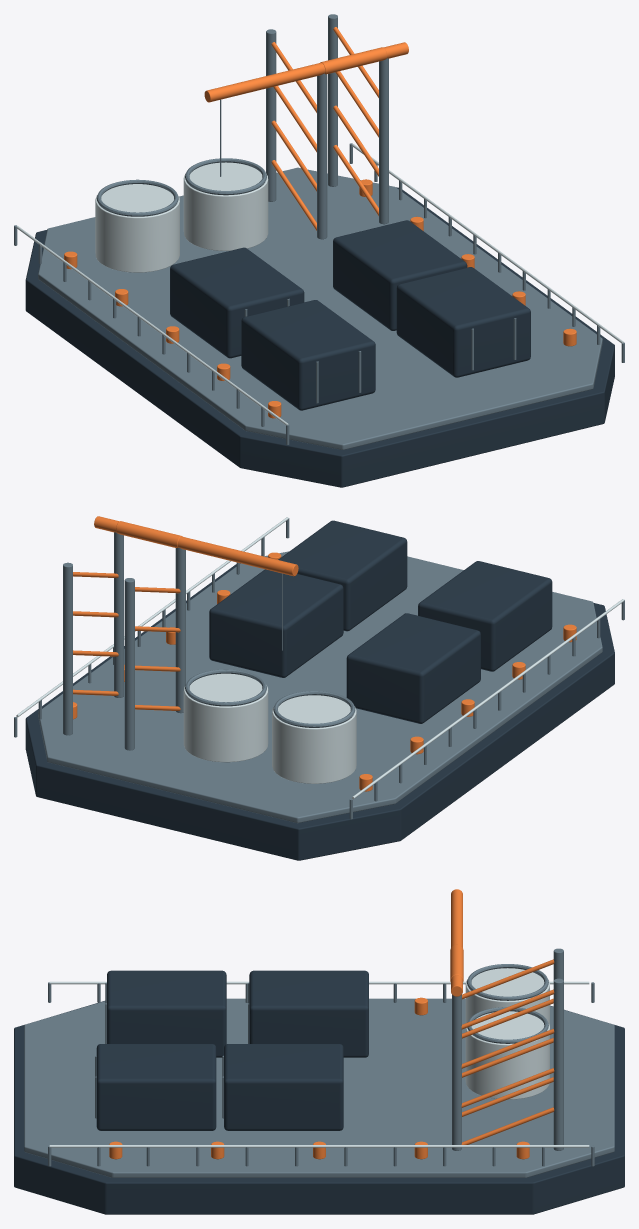
Rendered from HarborPort.fbx.
The picture shows the model from 3 angles, top to bottom: view 1: azimuth 30°, elevation 25°; view 2: azimuth 150°, elevation 25°; view 3: azimuth 270°, elevation 25°; orthographic projection.
Parts seen in each view (by area): view 1: Inset concrete deck.002, Chamfered breakwater.002, Cargo frame.008, Cargo frame.010, Cargo frame.009, Cargo frame.011, Fuel reservoir.005, Fuel reservoir.004, Crane outreach.002, Crane lattice leg.008, Crane lattice leg.010, Crane lattice leg.009 (+6 smaller); view 2: Inset concrete deck.002, Chamfered breakwater.002, Cargo frame.009, Cargo frame.011, Cargo frame.008, Cargo frame.010, Fuel reservoir.005, Fuel reservoir.004, Crane lattice leg.009, Crane outreach.002, Crane lattice leg.011, Crane lattice leg.008 (+6 smaller); view 3: Inset concrete deck.002, Chamfered breakwater.002, Cargo frame.010, Cargo frame.011, Cargo frame.009, Cargo frame.008, Fuel reservoir.005, Fuel reservoir.004, Crane lattice leg.011, Continuous dock rail.005, Crane lattice leg.010, Crane outreach.002 (+11 smaller).
Part boxes in pixels (<box>): Inset concrete deck.002: <box>38,167,602,449</box>; Chamfered breakwater.002: <box>25,187,614,487</box>; Cargo frame.008: <box>241,300,375,410</box>; Cargo frame.010: <box>396,267,530,377</box>; Cargo frame.009: <box>170,247,304,358</box>; Cargo frame.011: <box>333,220,467,330</box>; Fuel reservoir.005: <box>183,162,268,250</box>; Fuel reservoir.004: <box>95,184,179,272</box>; Crane outreach.002: <box>204,42,408,102</box>; Crane lattice leg.008: <box>317,73,327,239</box>; Crane lattice leg.010: <box>379,58,388,224</box>; Crane lattice leg.009: <box>266,29,276,201</box>; Inset concrete deck.002: <box>38,551,602,823</box>; Chamfered breakwater.002: <box>25,563,614,860</box>; Cargo frame.009: <box>346,613,480,723</box>; Cargo frame.011: <box>209,569,343,677</box>; Cargo frame.008: <box>418,561,552,671</box>; Cargo frame.010: <box>278,520,407,631</box>; Fuel reservoir.005: <box>183,673,268,762</box>; Fuel reservoir.004: <box>272,695,356,783</box>; Crane lattice leg.009: <box>124,578,134,750</box>; Crane outreach.002: <box>94,516,298,576</box>; Crane lattice leg.011: <box>63,562,72,735</box>; Crane lattice leg.008: <box>175,547,185,713</box>; Inset concrete deck.002: <box>24,998,614,1177</box>; Chamfered breakwater.002: <box>14,1001,624,1214</box>; Cargo frame.010: <box>96,1044,216,1130</box>; Cargo frame.011: <box>224,1044,343,1130</box>; Cargo frame.009: <box>249,970,368,1057</box>; Cargo frame.008: <box>107,970,226,1057</box>; Fuel reservoir.005: <box>465,1011,549,1099</box>; Fuel reservoir.004: <box>465,968,549,1025</box>; Crane lattice leg.011: <box>553,978,563,1150</box>; Continuous dock rail.005: <box>49,1145,589,1147</box>; Crane lattice leg.010: <box>452,994,461,1150</box>; Crane outreach.002: <box>451,889,462,996</box>.
Bounding box in the file's own units: 850 × 463 × 1200.
